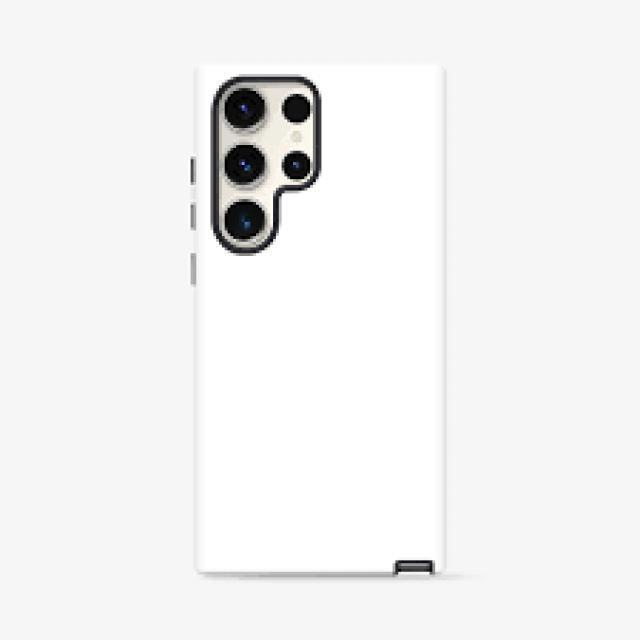phone: (180, 51, 447, 576)
